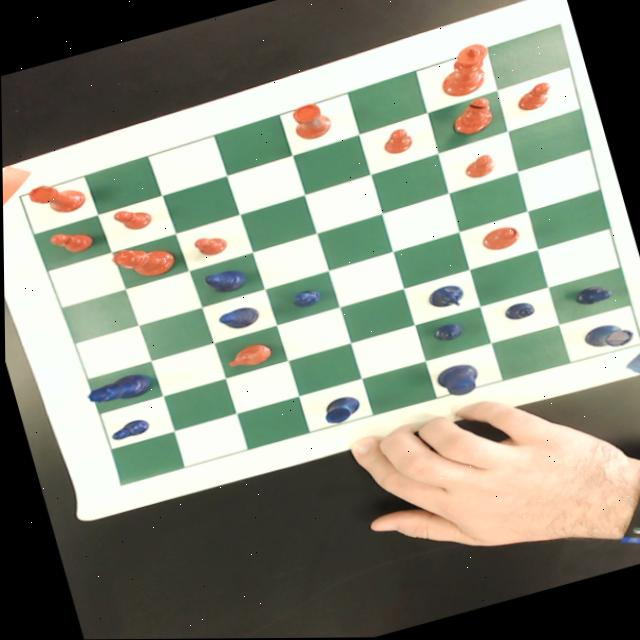B: (201, 264, 248, 296), (215, 303, 260, 333)
K: (430, 359, 482, 401)
N: (419, 279, 468, 313)
P: (105, 416, 150, 442), (572, 280, 613, 308), (428, 318, 467, 345), (288, 286, 324, 310), (501, 298, 535, 323)
Q: (83, 369, 152, 409)
R: (578, 317, 635, 355), (318, 393, 362, 427)
b: (446, 95, 496, 138), (478, 223, 520, 253)
k: (432, 41, 498, 100)
n: (223, 338, 275, 371)
p: (46, 222, 95, 258), (511, 80, 555, 113), (110, 202, 153, 234), (377, 126, 415, 157), (190, 231, 228, 259), (460, 152, 496, 180)
q: (109, 234, 177, 285)
r: (26, 174, 88, 221), (288, 99, 334, 141)
